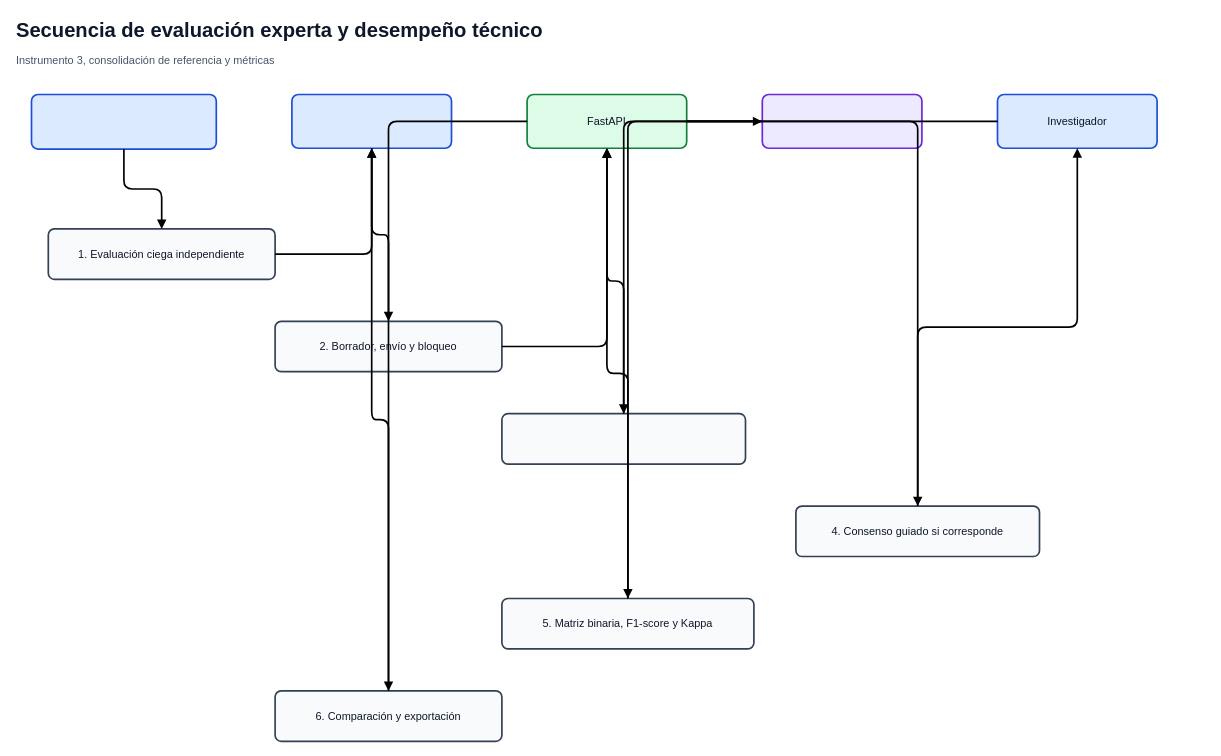
The diagram is 1221 pixels wide and 756 high, and some of its shapes have lost their labels. Here are the shapes that lost their labels. From the top down, the box of each, then its label:
(30, 93, 217, 150): Evaluadores expertos
(291, 93, 452, 149): Interfaz web
(761, 93, 922, 149): Supabase
(501, 412, 746, 465): 3. Coincidencia, mayoría o discrepancia
